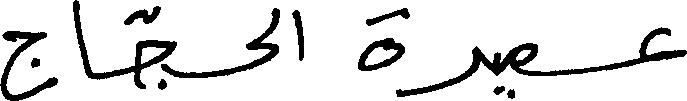X: (404, 3, 469, 100), (352, 4, 402, 100), (0, 26, 54, 100), (136, 1, 175, 94), (246, 3, 280, 74), (641, 22, 686, 67), (511, 38, 537, 100), (73, 0, 91, 83), (292, 5, 304, 65), (492, 47, 500, 99)
